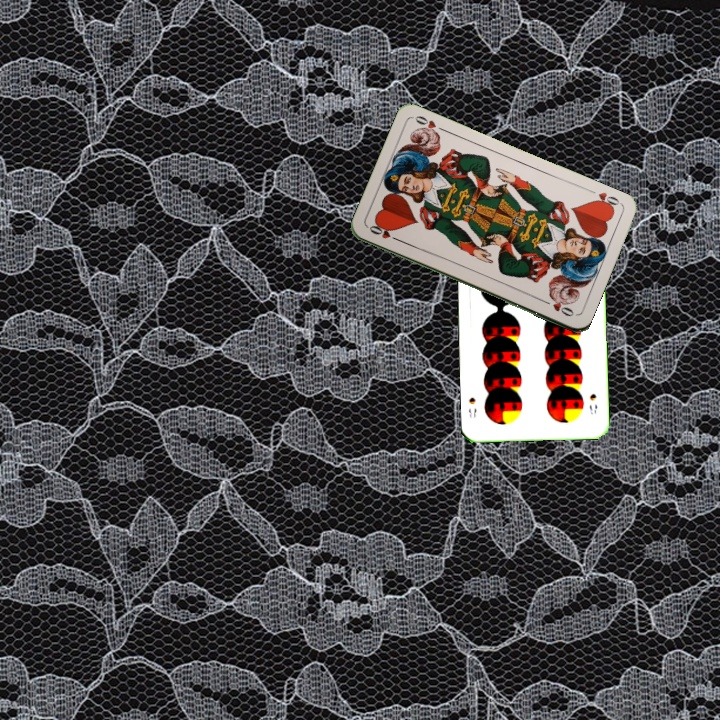HO: (588, 188, 624, 213), (365, 221, 403, 244)
S8: (585, 390, 600, 417)
